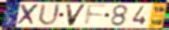4: (131, 5, 147, 27)
8: (110, 4, 129, 27)
F: (84, 4, 108, 27)
U: (37, 3, 62, 27)
V: (64, 4, 88, 27)
X: (16, 4, 41, 26)
